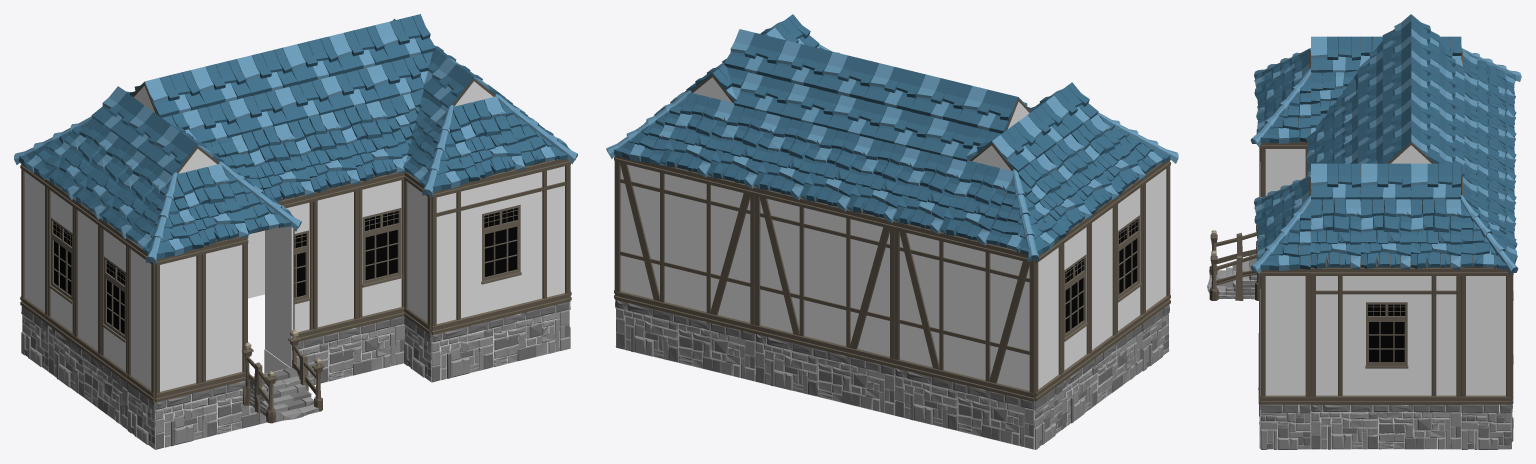
The model's file is house_09_parts.glb.
3 views of the same model, side by side, from view 1: azimuth 30°, elevation 25°; view 2: azimuth 150°, elevation 25°; view 3: azimuth 270°, elevation 25° (orthographic). The views are drawn at different scales.
Parts seen in each view (by area): view 1: WINDOW_03_2, WALL_03_6, WALL_03_4, WINDOW_04_4, FOUNDATION_02_26, WALL_03_3, FOUNDATION_02_25, FOUNDATION_02_24, STAIRS_06_4, WALL_03_7, WALL_03_8, WALL_03_10 (+41 smaller); view 2: WALL_02_4, WALL_02_3, WALL_02_2, FOUNDATION_02_28, FOUNDATION_02_29, FOUNDATION_02_30, WALL_03_9, WALL_03_8, WALL_03_7, WINDOW_04_6, WINDOW_04_5, FOUNDATION_02_31 (+31 smaller); view 3: WINDOW_03_3, WALL_03_12, WALL_03_11, FOUNDATION_02_27, ROOF_base_13, ROOF_base_12, ROOF_base_11, ROOF_corner_out_7, ROOF_corner_out_5, ROOF_corner_out_3, STAIRS_06_4, FOUNDATION_03_12 (+49 smaller).
Part boxes in pixels (box(x1,y1,x2,y2)): WINDOW_03_2: box(431, 159, 570, 334); WALL_03_6: box(313, 184, 359, 337); WALL_03_4: box(155, 248, 202, 402); WINDOW_04_4: box(359, 172, 404, 326); FOUNDATION_02_26: box(431, 302, 569, 382); WALL_03_3: box(201, 237, 248, 391); FOUNDATION_02_25: box(155, 369, 282, 449); FOUNDATION_02_24: box(296, 316, 404, 386); STAIRS_06_4: box(242, 329, 324, 423); WALL_03_7: box(126, 238, 155, 401); WALL_03_8: box(73, 199, 101, 362); WALL_03_10: box(404, 172, 431, 334); WALL_02_4: box(894, 221, 1034, 401); WALL_02_3: box(754, 187, 894, 367); WALL_02_2: box(615, 155, 754, 333); FOUNDATION_02_28: box(616, 300, 755, 381); FOUNDATION_02_29: box(755, 334, 894, 415); FOUNDATION_02_30: box(895, 368, 1034, 449); WALL_03_9: box(1034, 238, 1063, 401); WALL_03_8: box(1089, 199, 1117, 361); WALL_03_7: box(1143, 159, 1170, 322); WINDOW_04_6: box(1062, 218, 1090, 381); WINDOW_04_5: box(1116, 179, 1143, 342); FOUNDATION_02_31: box(1061, 324, 1142, 429); WINDOW_03_3: box(1311, 267, 1461, 404); WALL_03_12: box(1461, 267, 1511, 404); WALL_03_11: box(1260, 268, 1310, 404); FOUNDATION_02_27: box(1311, 405, 1461, 449); ROOF_base_13: box(1410, 199, 1461, 270); ROOF_base_12: box(1360, 199, 1411, 270); ROOF_base_11: box(1310, 198, 1361, 270); ROOF_corner_out_7: box(1461, 195, 1518, 275); ROOF_corner_out_5: box(1250, 195, 1311, 274); ROOF_corner_out_3: box(1250, 68, 1311, 146); STAIRS_06_4: box(1207, 225, 1258, 300); FOUNDATION_03_12: box(1461, 404, 1511, 449).
Size of the model in its own units: 9.41 by 6.09 by 6.27.
1 material, 1 textured.
